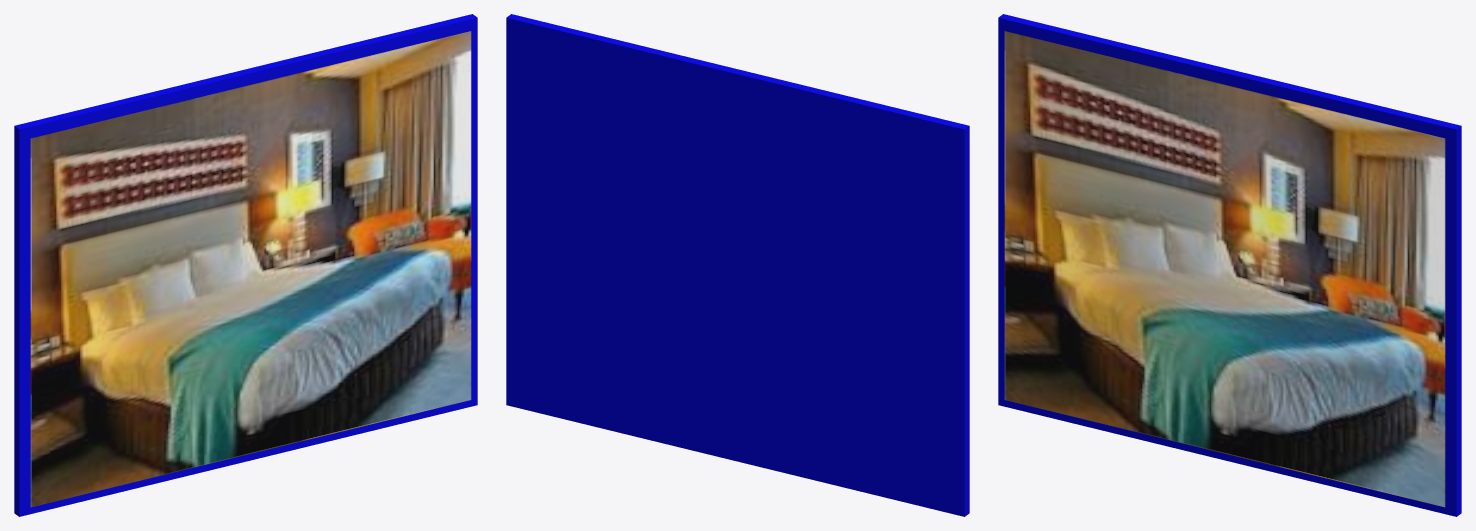
3 views of the same model, side by side, from view 1: azimuth 30°, elevation 25°; view 2: azimuth 150°, elevation 25°; view 3: azimuth 330°, elevation 25° (orthographic).
Visible parts, largest first — view 1: PhotoPlane, PhotoBorder; view 2: PhotoBorder; view 3: PhotoPlane, PhotoBorder.
Boxes of the visible parts, box(x1,y1,x2,y2) form: PhotoPlane: box(30, 31, 471, 507); PhotoBorder: box(14, 14, 477, 516); PhotoBorder: box(506, 14, 969, 516); PhotoPlane: box(1004, 31, 1445, 507); PhotoBorder: box(998, 14, 1461, 516).
Bounding box in the file's own units: 26 × 21 × 0.75.
2 materials, 1 textured.
